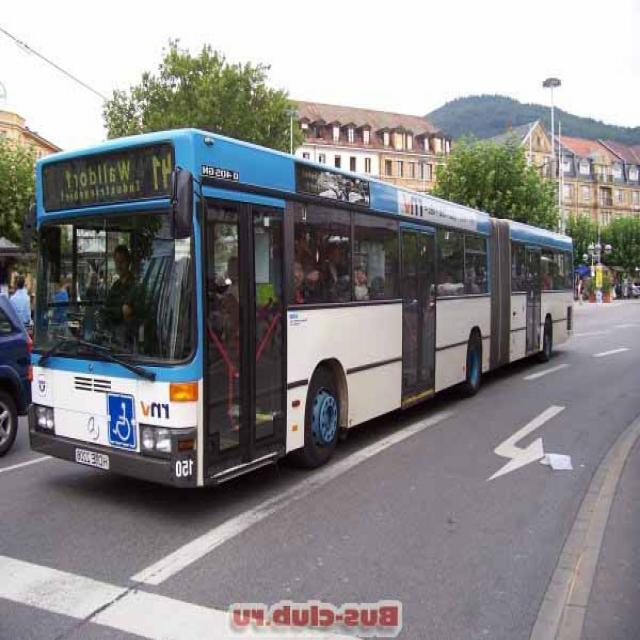bus: (28, 124, 580, 502)
